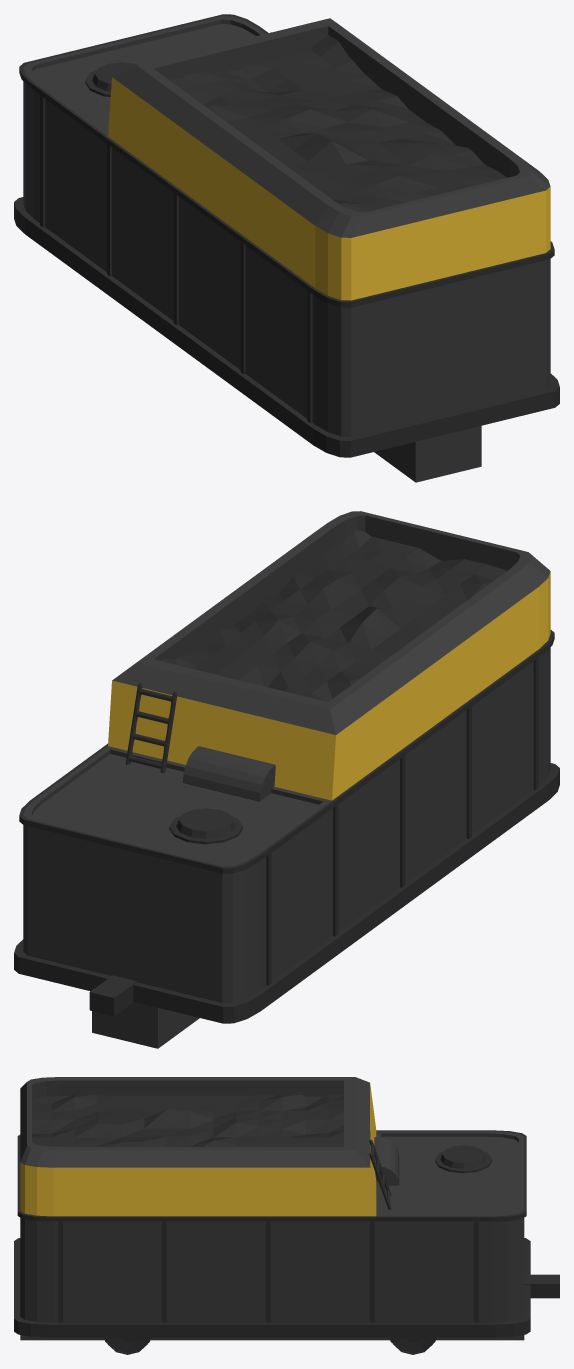
The model's file is colar.glb.
The picture shows the model from 3 angles, top to bottom: view 1: azimuth 30°, elevation 25°; view 2: azimuth 150°, elevation 25°; view 3: azimuth 270°, elevation 25°; orthographic projection. The views are drawn at different scales.
Visible parts, largest first — view 1: CoalTender, CoalTender.001; view 2: CoalTender, CoalTender.001; view 3: CoalTender, CoalTender.001, FrontWheels, BackWheels.
Part boxes in pixels (box(x1,y1,x2,y2)): CoalTender: box(14, 14, 559, 482); CoalTender.001: box(108, 77, 550, 300); CoalTender: box(14, 511, 559, 1048); CoalTender.001: box(108, 571, 550, 800); CoalTender: box(14, 1077, 559, 1340); CoalTender.001: box(20, 1083, 376, 1216); FrontWheels: box(389, 1337, 436, 1354); BackWheels: box(104, 1337, 150, 1354).
Bounding box in the file's own units: 2.02 × 2.35 × 5.21.
